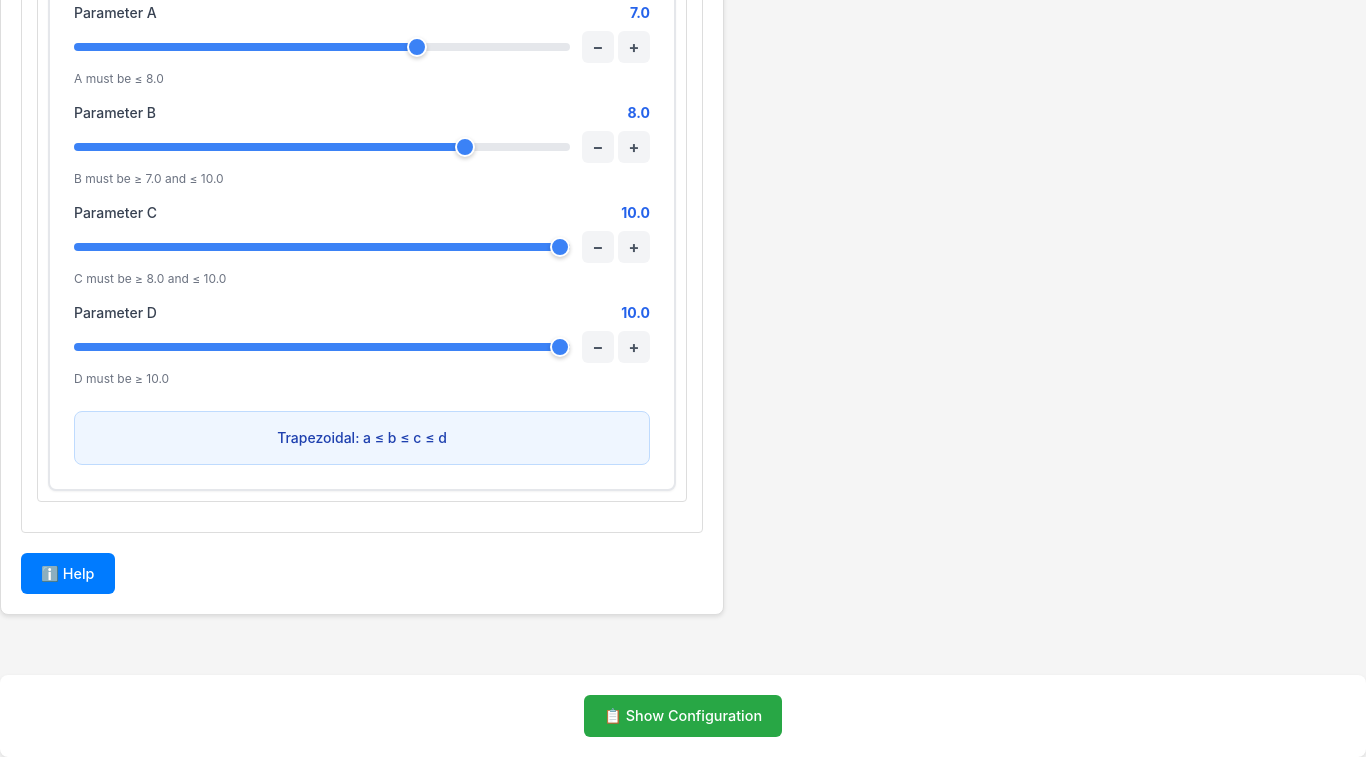
Test: FISBuilder Component › toggles configuration display
The image size is (1366, 757).
(page scrolled)
Click the button "📋 Show Configuration": point(683, 716) [584,695,782,737]
(page scrolled)
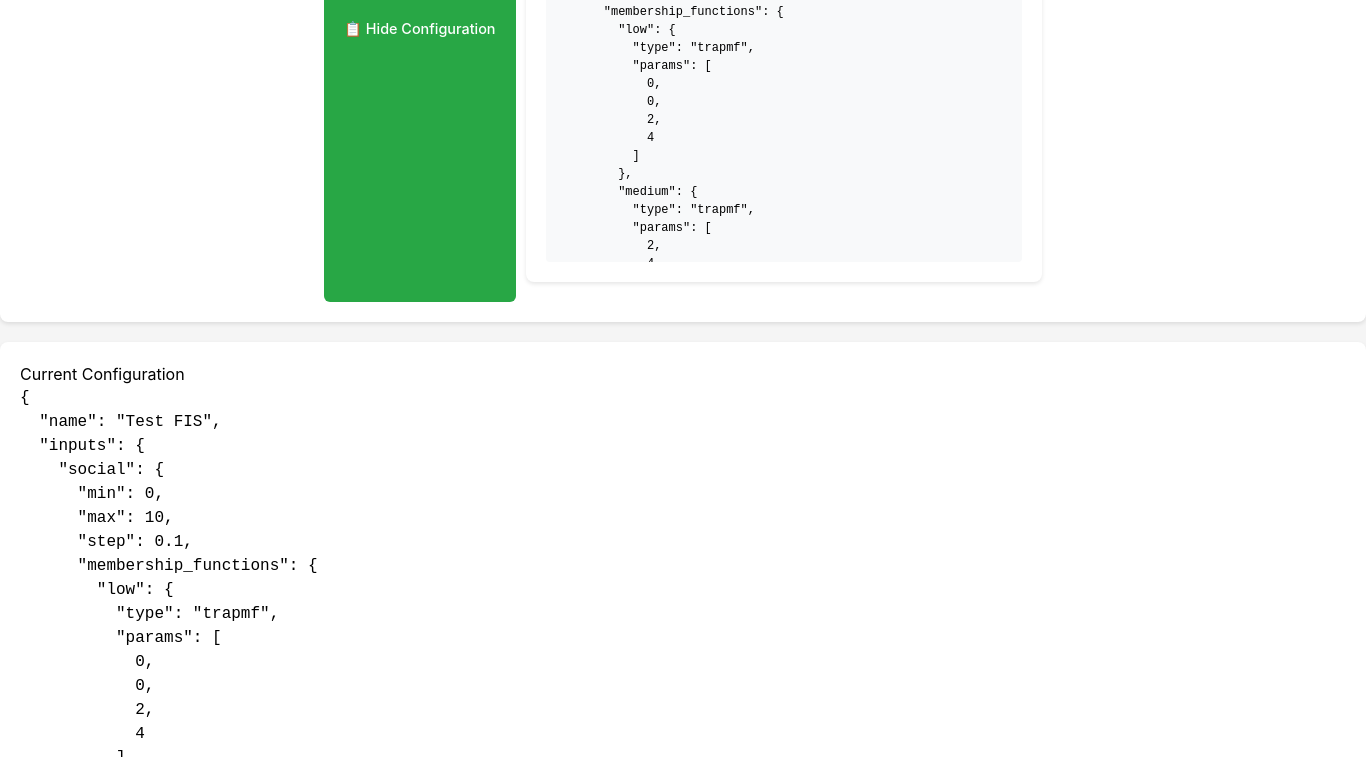
Expected: the heading "Current Configuration" is shown, [20,364,185,384]
